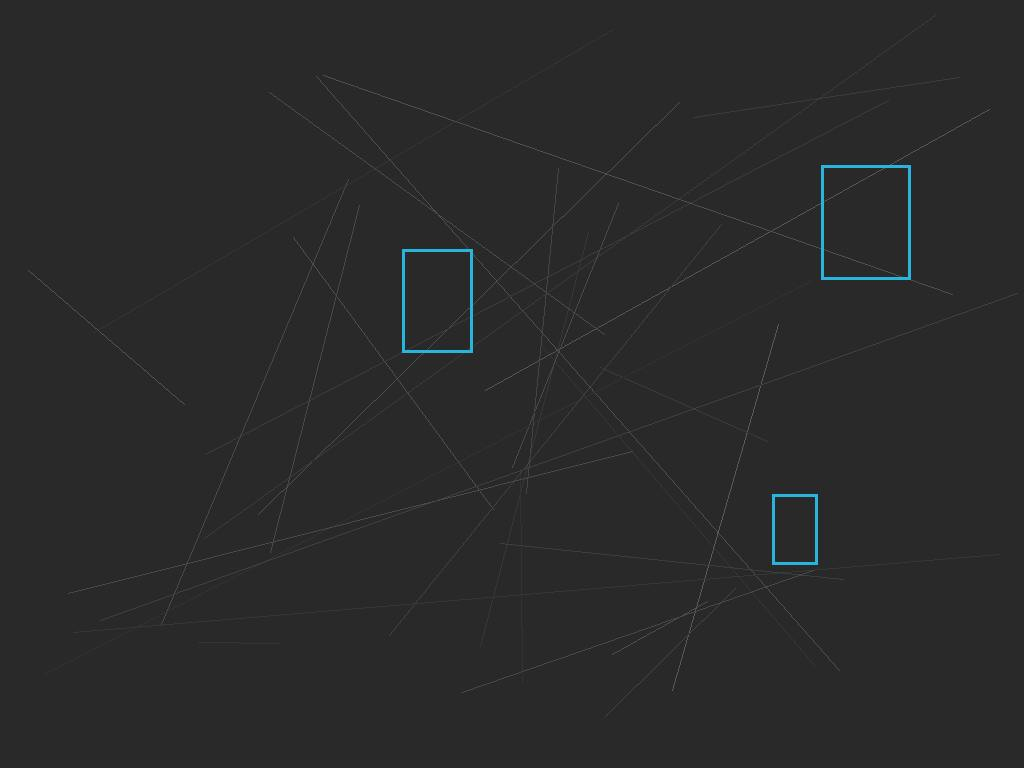D10: (821, 165, 910, 279)
D40: (402, 249, 472, 352), (772, 494, 817, 564)
